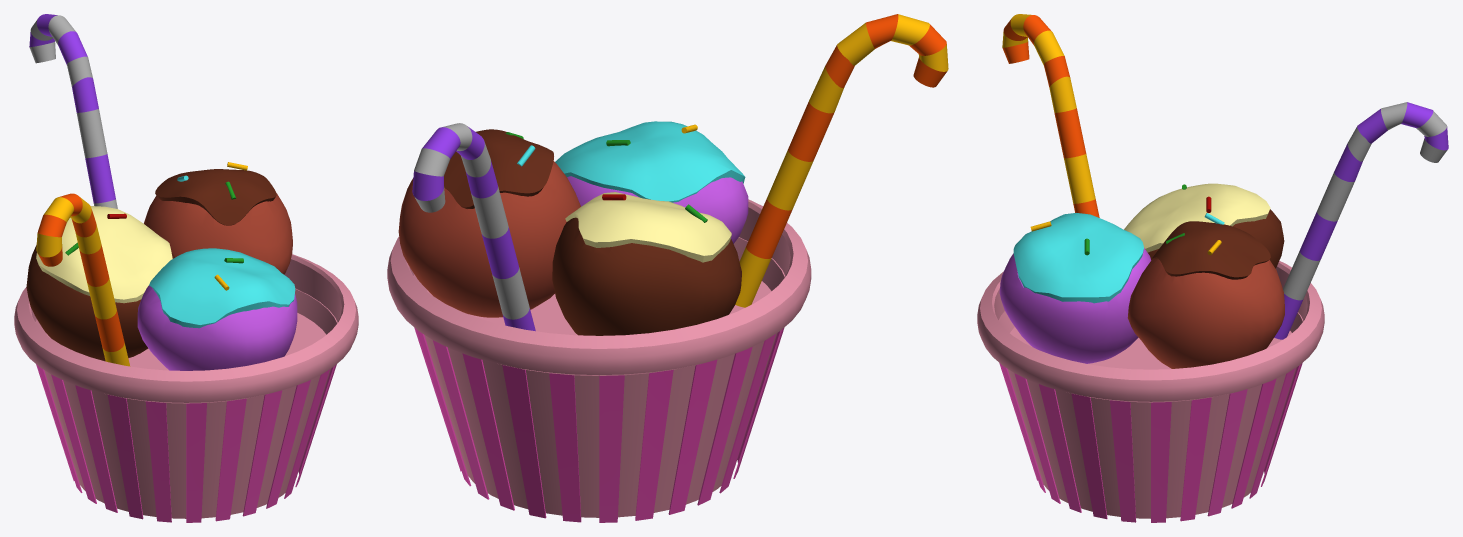
Rendered from Ice Cream Bowl.fbx.
3 renders of one model, left to right at view 1: azimuth 30°, elevation 25°; view 2: azimuth 150°, elevation 25°; view 3: azimuth 270°, elevation 25°, orthographic. The views are drawn at different scales.
Visible parts, largest first — view 1: Main bowl, White parts.001, Sphere.002, Sphere.006, Sphere.004, Sphere.007, Sphere.001, Sphere.005, White parts, red parts of straws.001, red parts of straws, White parts.002; view 2: Main bowl, White parts.001, Sphere.001, Sphere.004, Sphere.006, Sphere.007, red parts of straws, White parts, White parts.002, Sphere.005, red parts of straws.001, Sphere.002; view 3: Main bowl, White parts.001, Sphere.004, Sphere.006, Sphere.002, Sphere.007, Sphere.005, White parts.002, red parts of straws.001, White parts, red parts of straws, Sphere.001.
Part boxes in pixels (box(x1,y1,x2,y2)): Main bowl: box(14, 254, 358, 518); White parts.001: box(36, 364, 336, 522); Sphere.002: box(137, 285, 297, 370); Sphere.006: box(149, 248, 295, 328); Sphere.004: box(144, 193, 292, 274); Sphere.007: box(36, 206, 172, 303); Sphere.001: box(26, 245, 174, 361); Sphere.005: box(155, 169, 276, 225); White parts: box(37, 193, 124, 351); red parts of straws.001: box(29, 14, 115, 203); red parts of straws: box(36, 197, 130, 366); White parts.002: box(29, 15, 117, 208); Main bowl: box(387, 199, 811, 517); White parts.001: box(414, 327, 784, 522); Sphere.001: box(552, 217, 741, 335); Sphere.004: box(398, 161, 580, 317); Sphere.006: box(555, 121, 745, 202); Sphere.007: box(565, 192, 731, 262); red parts of straws: box(735, 14, 948, 307); White parts: box(746, 14, 947, 258); White parts.002: box(414, 123, 529, 319); Sphere.005: box(444, 129, 553, 208); red parts of straws.001: box(412, 126, 535, 331); Sphere.002: box(567, 176, 748, 243); Main bowl: box(977, 261, 1324, 518); White parts.001: box(999, 363, 1302, 522); Sphere.004: box(1127, 259, 1284, 368); Sphere.006: box(1013, 213, 1143, 303); Sphere.002: box(999, 248, 1151, 363); Sphere.007: box(1124, 183, 1270, 252); Sphere.005: box(1152, 221, 1270, 279); White parts.002: box(1283, 102, 1447, 300); red parts of straws.001: box(1274, 102, 1448, 339); White parts: box(1002, 15, 1099, 217); red parts of straws: box(1002, 14, 1095, 203); Sphere.001: box(1148, 209, 1284, 268).
Bounding box in the file's own units: 1166 × 1123 × 1296.
Materials: 13 (1 with a texture image).
